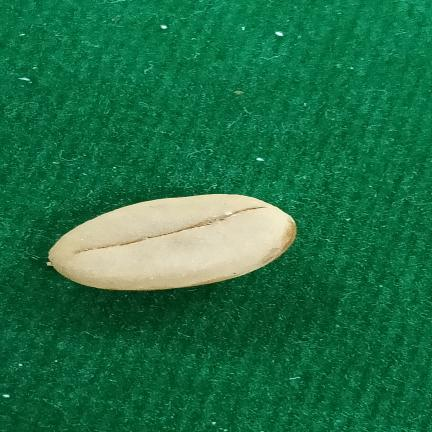parchment: (49, 194, 296, 291)
